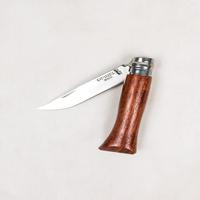knife: (35, 53, 157, 158)
